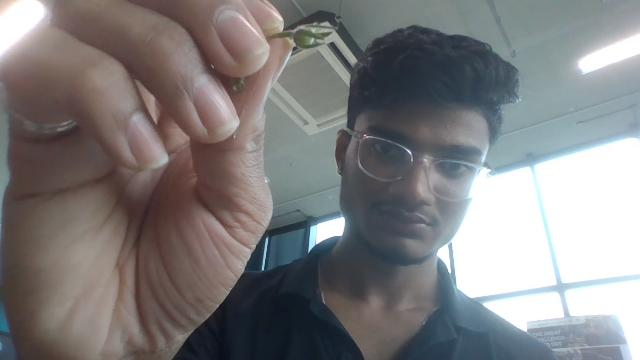Fruit Bud: (283, 27, 334, 48)
